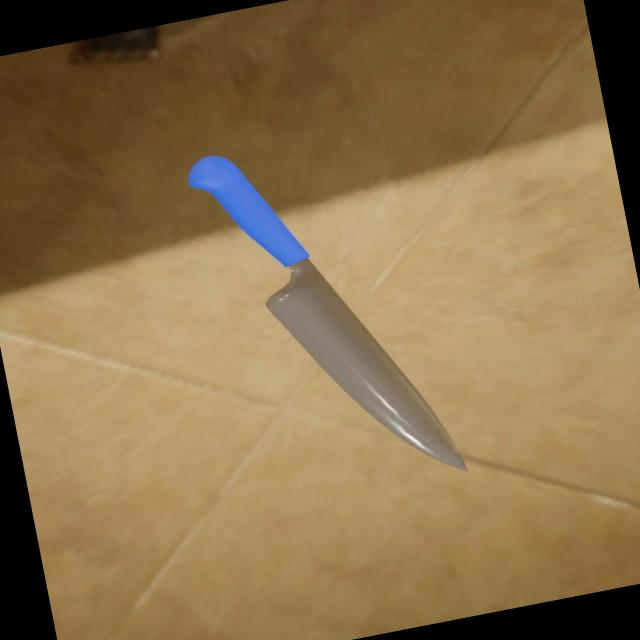knife: (184, 141, 311, 285)
